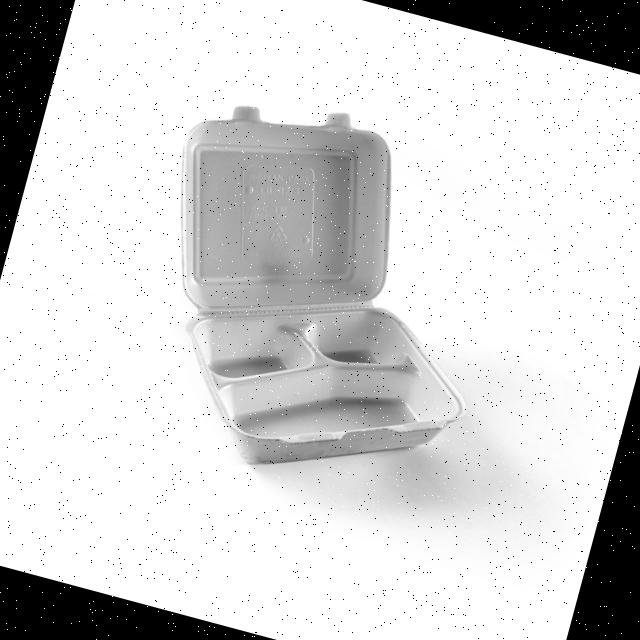styrofoam: (106, 72, 534, 515)
